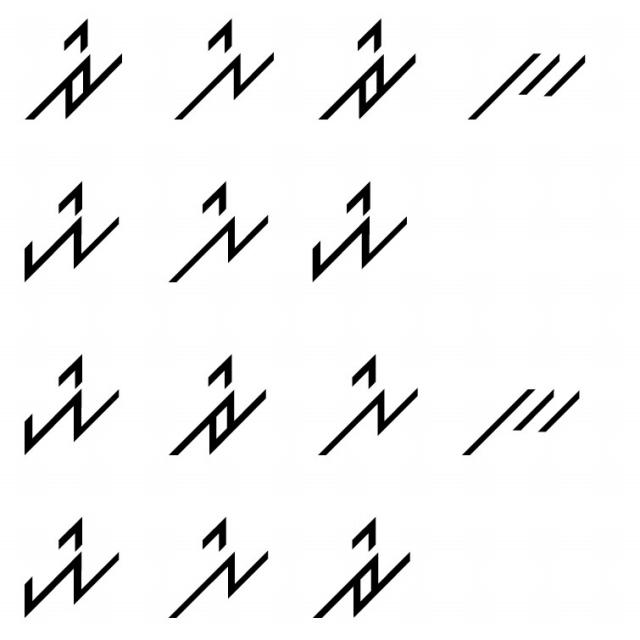li: (306, 338, 429, 461), (164, 14, 282, 123), (165, 180, 277, 288), (170, 514, 272, 626)
ri: (310, 10, 426, 128), (158, 354, 276, 467), (21, 10, 133, 129), (302, 514, 414, 624)
yi: (13, 514, 126, 629), (14, 175, 128, 286), (16, 353, 129, 463), (298, 177, 411, 284)
